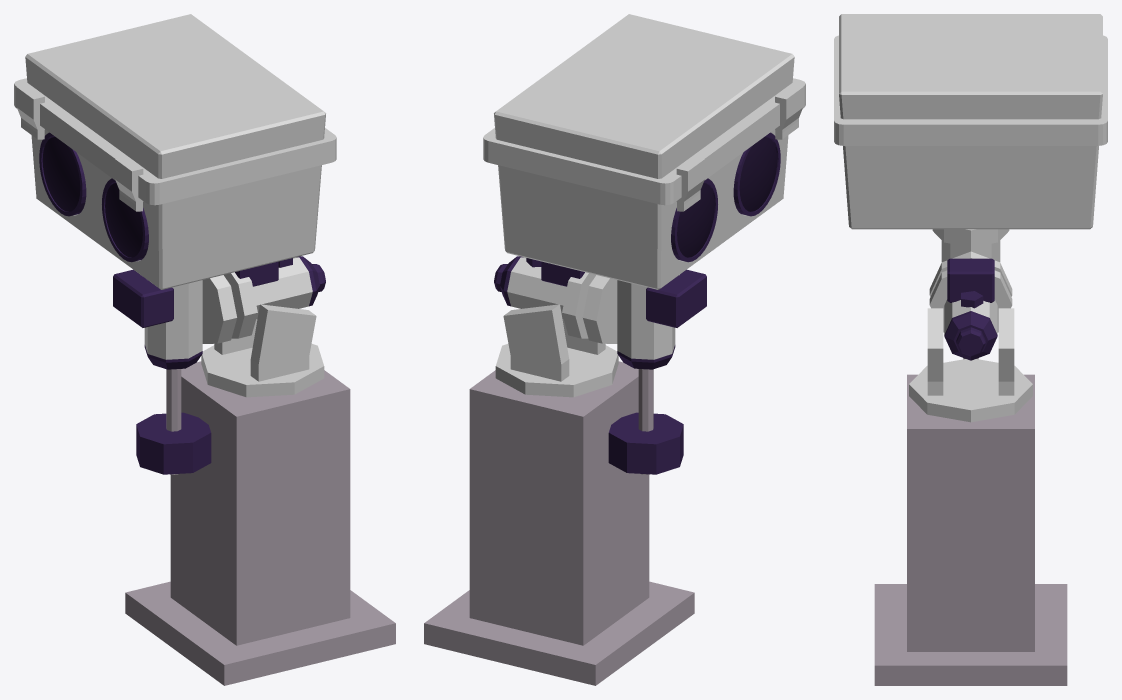
Rendered from robot2.glb.
3 views of the same model, side by side, from view 1: azimuth 30°, elevation 25°; view 2: azimuth 150°, elevation 25°; view 3: azimuth 270°, elevation 25° (orthographic). The views are drawn at different scales.
Parts seen in each view (by area): view 1: Cube.007, box_bool.001, Cylinder, Cube.009, Cylinder.003, Cylinder.002, new_lenses.001, Cube.010, Cylinder.011; view 2: Cube.007, box_bool.001, Cylinder, Cube.009, Cylinder.003, Cylinder.002, new_lenses.001, Cube.010, Cylinder.011; view 3: box_bool.001, Cube.007, Cube.009, Cylinder.003, Cylinder.002, Cylinder, Cube.004.
Part boxes in pixels (left/top/right/bottom): Cube.007: left=125, top=361, right=395, bottom=685; box_bool.001: left=25, top=14, right=325, bottom=289; Cylinder: left=113, top=269, right=237, bottom=474; Cube.009: left=14, top=78, right=336, bottom=205; Cylinder.003: left=201, top=304, right=324, bottom=397; Cylinder.002: left=224, top=256, right=325, bottom=338; new_lenses.001: left=42, top=137, right=142, bottom=257; Cube.010: left=16, top=84, right=143, bottom=211; Cylinder.011: left=39, top=132, right=148, bottom=262; Cube.007: left=424, top=361, right=694, bottom=685; box_bool.001: left=494, top=14, right=794, bottom=289; Cylinder: left=582, top=269, right=706, bottom=474; Cube.009: left=483, top=78, right=805, bottom=205; Cylinder.003: left=495, top=304, right=618, bottom=397; Cylinder.002: left=494, top=256, right=595, bottom=338; new_lenses.001: left=677, top=137, right=777, bottom=257; Cube.010: left=676, top=84, right=803, bottom=211; Cylinder.011: left=671, top=132, right=780, bottom=262; box_bool.001: left=839, top=14, right=1102, bottom=229; Cube.007: left=874, top=374, right=1067, bottom=685; Cube.009: left=834, top=35, right=1107, bottom=145; Cylinder.003: left=909, top=308, right=1032, bottom=422; Cylinder.002: left=929, top=258, right=1012, bottom=360; Cylinder: left=929, top=240, right=1012, bottom=359; Cube.004: left=932, top=229, right=1009, bottom=246.
Bounding box in the file's own units: 0.5833 × 1.16 × 0.5222.
